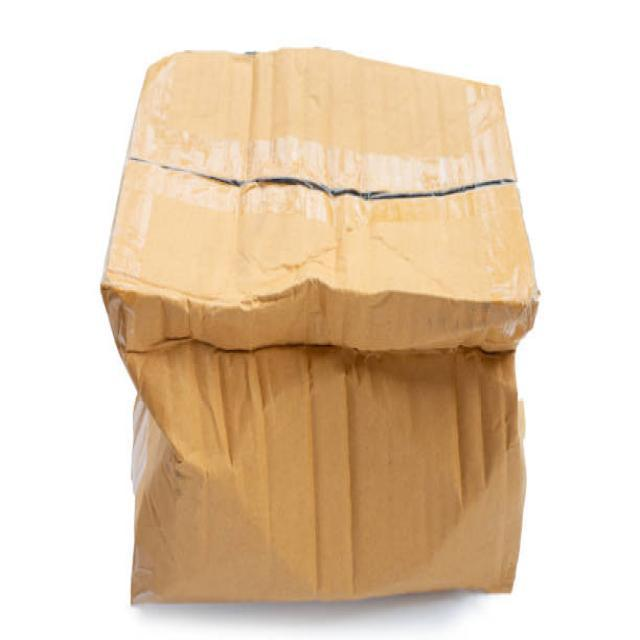box: (101, 46, 540, 600)
crushed: (101, 269, 392, 362), (122, 384, 193, 512)
